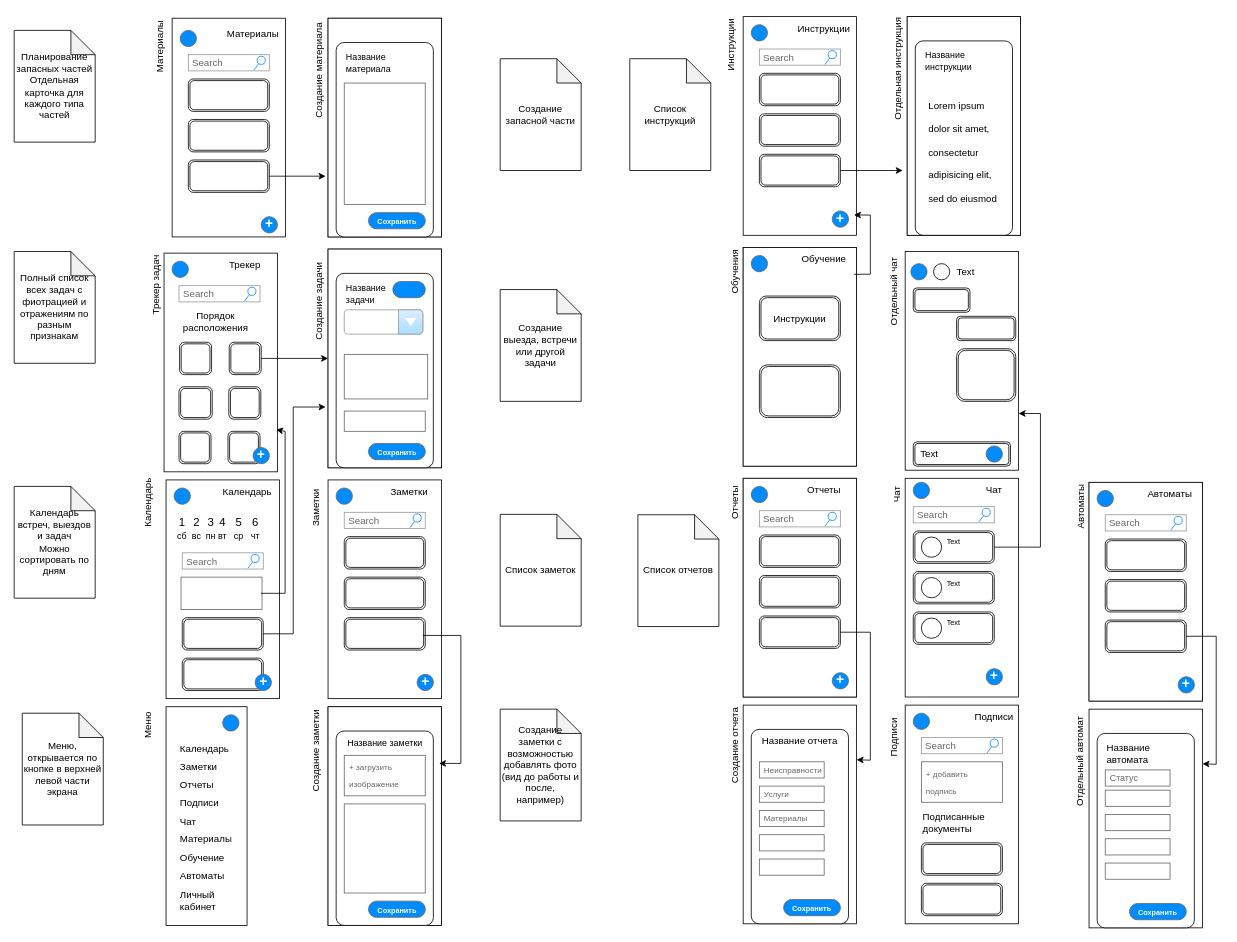
This 1237x942 diagram has some shape labels left out. The shapes that lost their labels are listed below. From the top down, each one's box as (x1, y1, x2, y2) in pixels, then its label:
(392, 281, 425, 298): Карты
(343, 309, 423, 334): Тип
(759, 364, 840, 418): Курсы
(180, 576, 262, 610): открыть трекер
